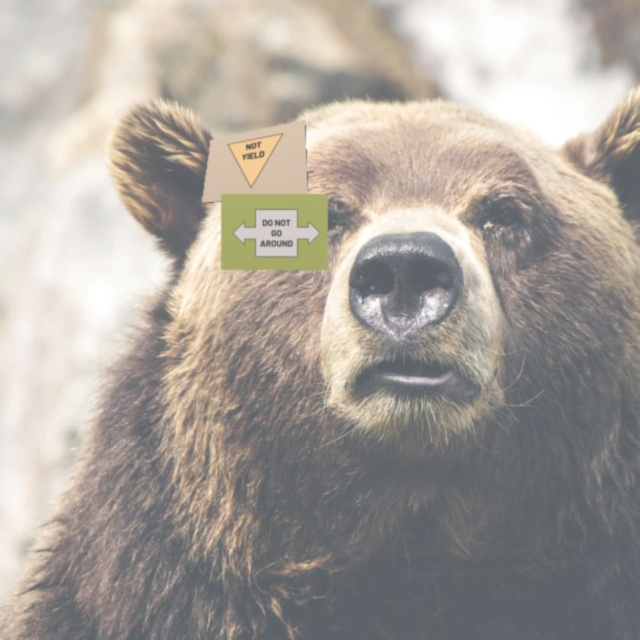DO_NOT_GO_AROUND: (233, 209, 321, 257)
NOT_YIELD: (221, 133, 285, 194)
